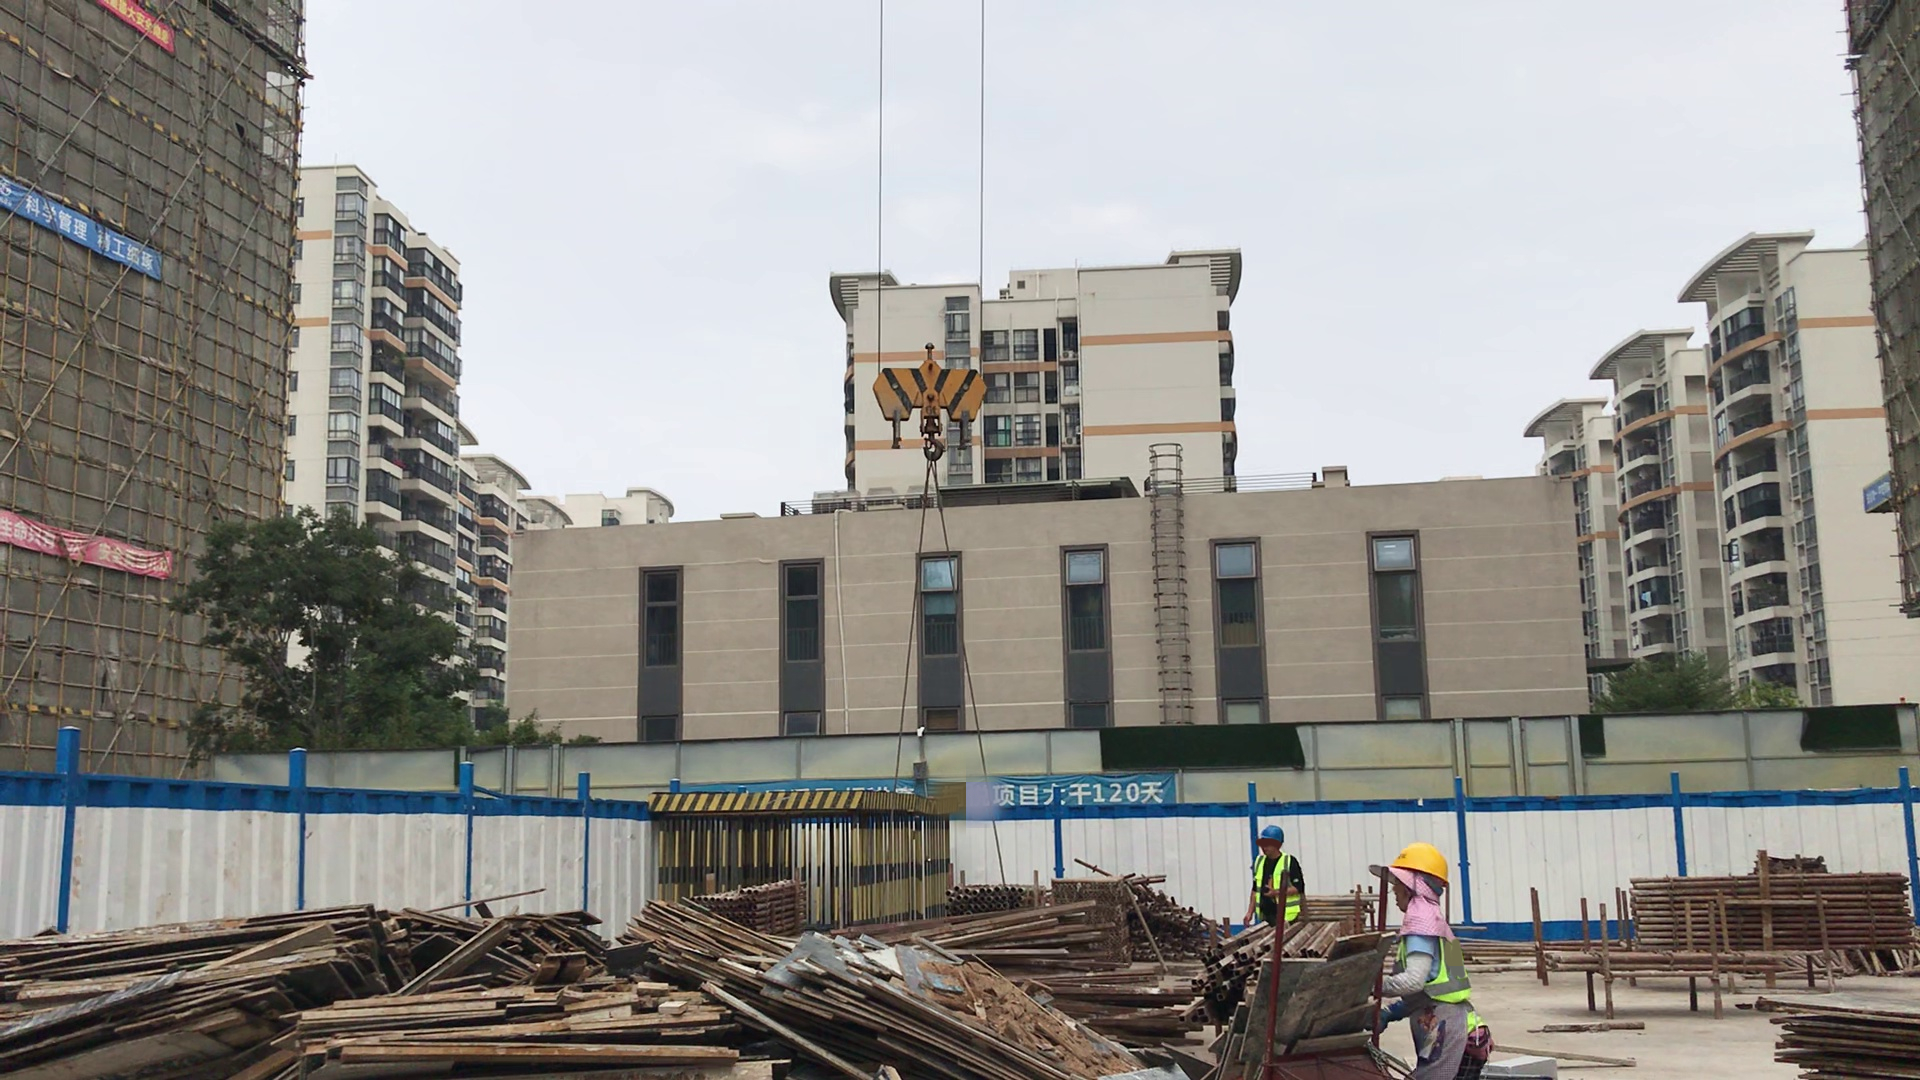board: (2, 908, 380, 1080), (282, 981, 742, 1080), (754, 957, 1071, 1080), (621, 887, 791, 996), (409, 895, 596, 985), (1758, 994, 1920, 1069)
helmet: (1388, 841, 1456, 891), (1251, 820, 1291, 850)
hook: (868, 345, 1003, 451)
person: (1363, 827, 1504, 1080), (1236, 817, 1318, 931)
scaffold: (1620, 871, 1920, 967), (687, 877, 809, 957), (931, 863, 1045, 925), (1138, 886, 1221, 965)
slogan: (1, 186, 177, 291), (1, 500, 194, 579), (953, 767, 1196, 827), (98, 1, 179, 75)
vest: (1397, 895, 1469, 1018), (1254, 853, 1309, 929)
